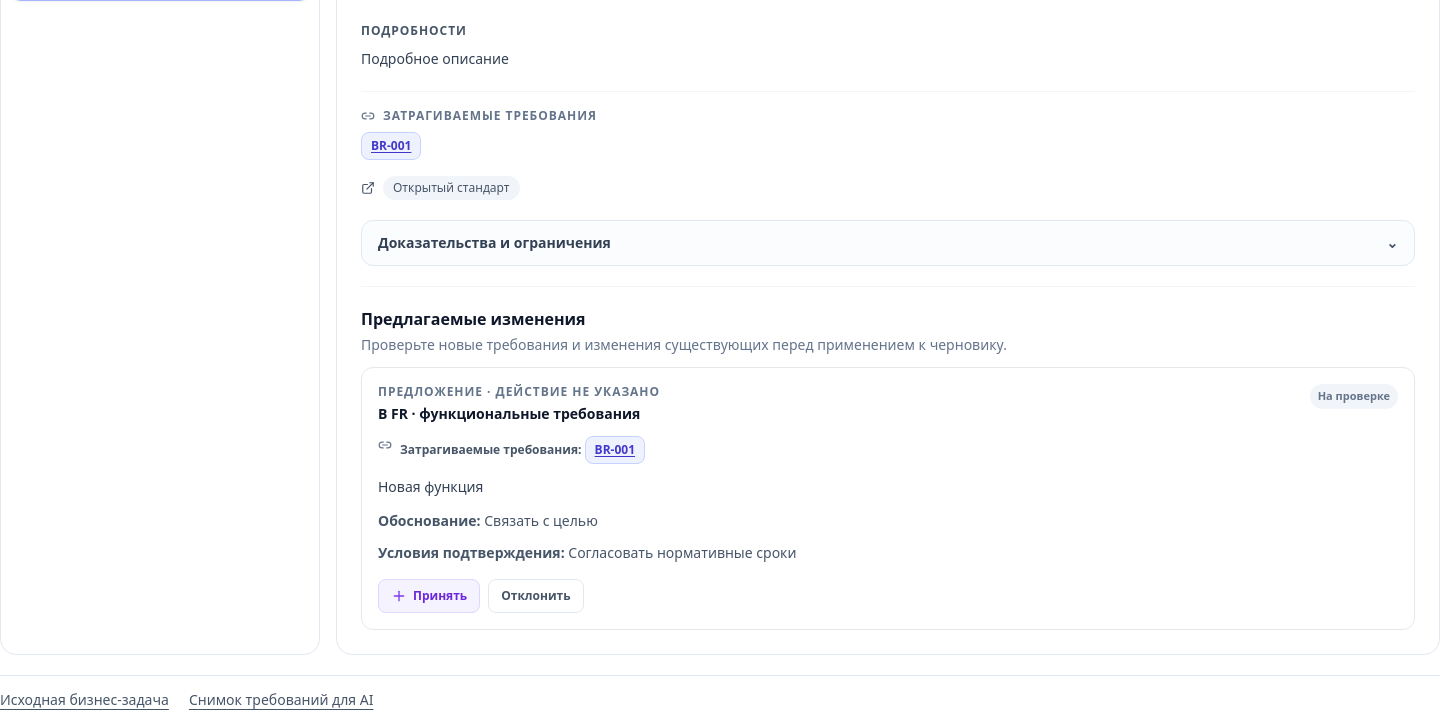
Scenario: AsyncJobWorkspace presentational branches › covers BABOK research cards, accepted final registry and read-only views
Later steps or results of the test are not shown.
(page scrolled)
Check: the text "Согласовать нормативные сроки" is shown, box [568,543,796,562]
Click the button with aria-label "Принять улучшение: Новая функция".
click(429, 596)  # box [378,579,480,613]
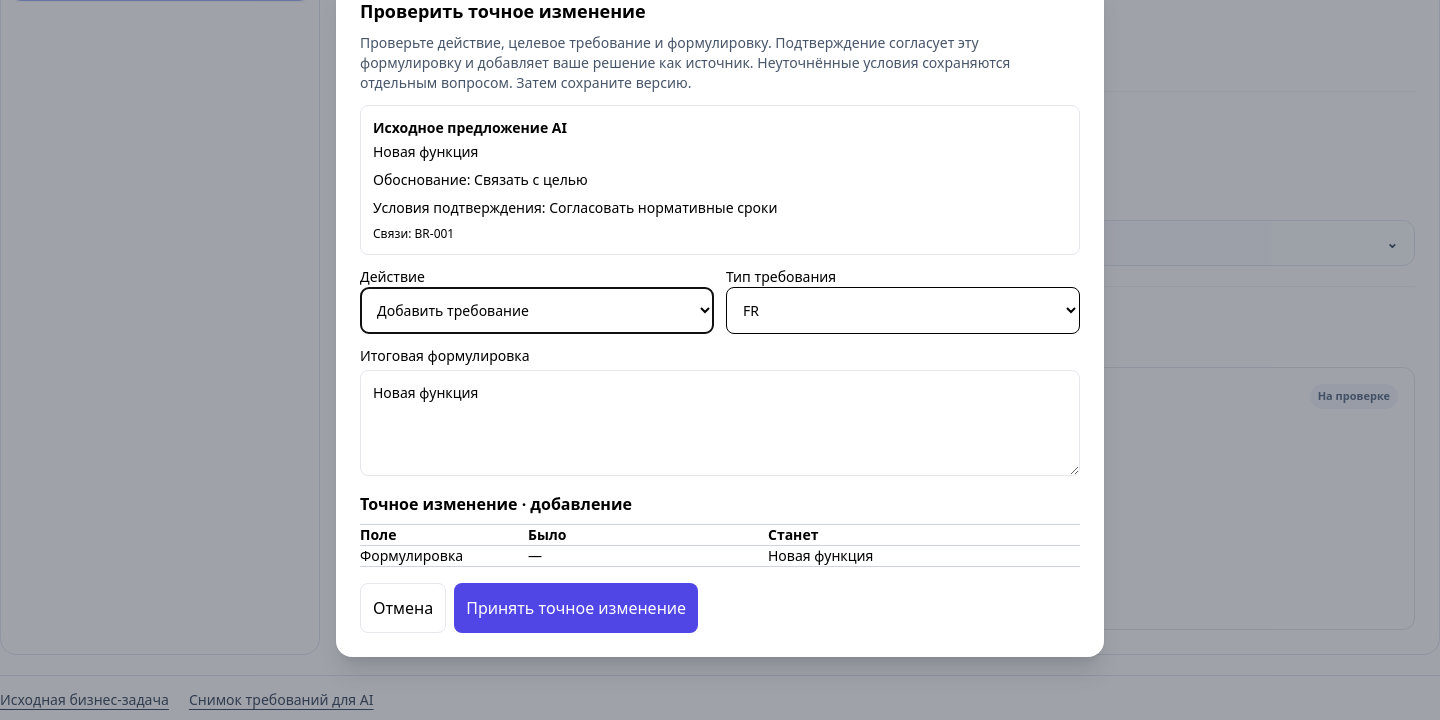
Check: the text box labelled "Итоговая формулировка" holds "Новая функция", box [360,370,1080,476]
